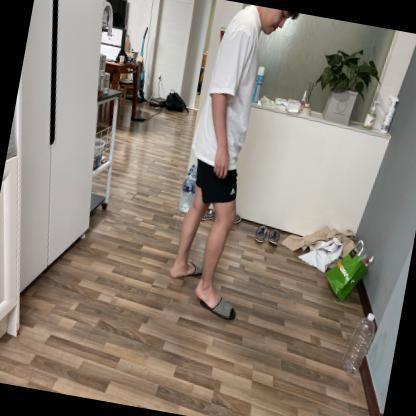no_safety-shoe: (191, 281, 245, 333), (167, 255, 203, 281)
